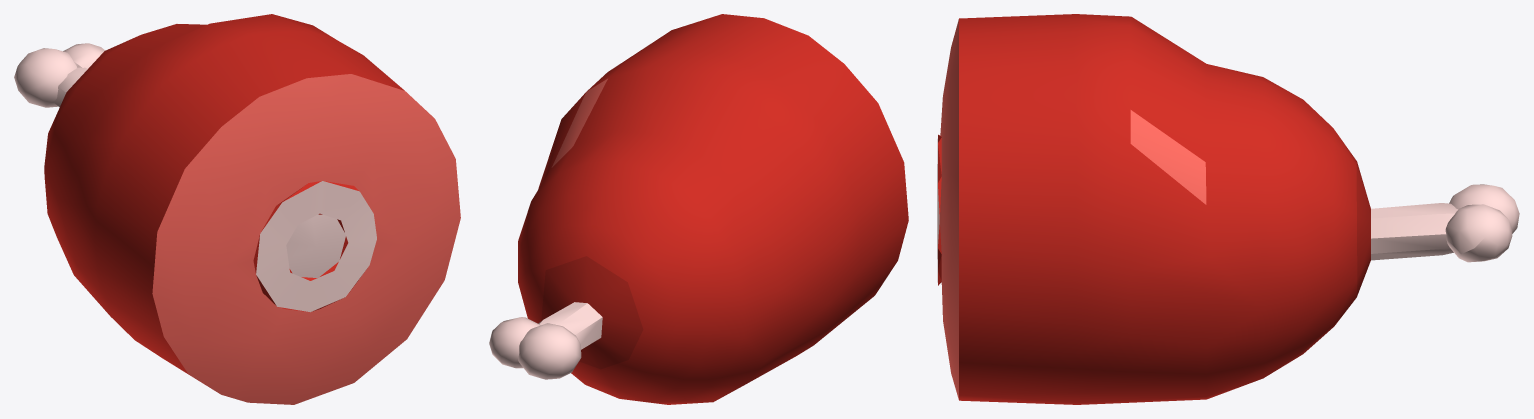
File: Biffe.glb
3 views of the same model, side by side, from view 1: azimuth 30°, elevation 25°; view 2: azimuth 150°, elevation 25°; view 3: azimuth 270°, elevation 25° (orthographic). The views are drawn at different scales.
Parts seen in each view (by area): view 1: Biffe; view 2: Biffe; view 3: Biffe.
Boxes of the visible parts, box(x1,y1,x2,y2) form: Biffe: box(14, 14, 460, 404); Biffe: box(489, 14, 908, 404); Biffe: box(937, 14, 1519, 404).
Bounding box in the file's own units: 1.07 × 1.07 × 1.6.
1 material, 1 textured.
